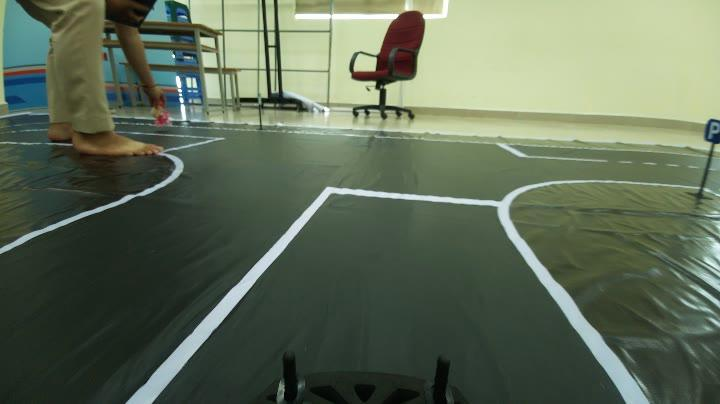parking: (702, 117, 720, 144)
